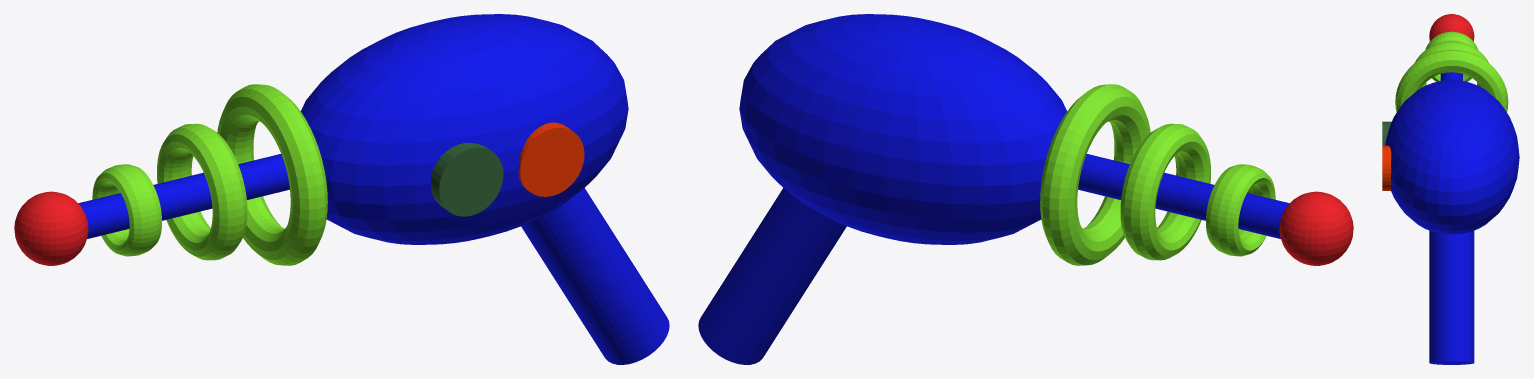
Rendered from gun.fbx.
The picture shows the model from 3 angles, left to right: view 1: azimuth 30°, elevation 25°; view 2: azimuth 150°, elevation 25°; view 3: azimuth 270°, elevation 25°; orthographic projection. The views are drawn at different scales.
Visible parts, largest first — view 1: Sphere.001, Cylinder.001, Torus, Torus.002, Cylinder, Sphere, Cylinder.003, Torus.001, Cylinder.002; view 2: Sphere.001, Cylinder.001, Torus, Torus.002, Cylinder, Sphere, Torus.001; view 3: Sphere.001, Cylinder.001, Torus, Sphere, Torus.002, Torus.001, Cylinder.002, Cylinder, Cylinder.003.
Part boxes in pixels (x1=…): Sphere.001: x1=300, y1=14, x2=628, y2=244; Cylinder.001: x1=521, y1=188, x2=669, y2=364; Torus: x1=217, y1=84, x2=327, y2=265; Torus.002: x1=157, y1=123, x2=247, y2=260; Cylinder: x1=78, y1=154, x2=289, y2=238; Sphere: x1=14, y1=191, x2=88, y2=265; Cylinder.003: x1=431, y1=142, x2=503, y2=216; Torus.001: x1=92, y1=164, x2=161, y2=256; Cylinder.002: x1=518, y1=122, x2=584, y2=196; Sphere.001: x1=739, y1=14, x2=1067, y2=244; Cylinder.001: x1=698, y1=188, x2=846, y2=364; Torus: x1=1040, y1=84, x2=1150, y2=265; Torus.002: x1=1120, y1=123, x2=1210, y2=260; Cylinder: x1=1078, y1=154, x2=1289, y2=238; Sphere: x1=1279, y1=191, x2=1353, y2=265; Torus.001: x1=1206, y1=164, x2=1275, y2=256; Sphere.001: x1=1385, y1=79, x2=1519, y2=234; Cylinder.001: x1=1429, y1=230, x2=1474, y2=364; Torus: x1=1395, y1=49, x2=1508, y2=111; Sphere: x1=1429, y1=14, x2=1474, y2=41; Torus.002: x1=1415, y1=41, x2=1488, y2=87; Torus.001: x1=1425, y1=31, x2=1477, y2=81; Cylinder.002: x1=1382, y1=145, x2=1391, y2=190; Cylinder: x1=1440, y1=72, x2=1462, y2=80; Cylinder.003: x1=1382, y1=121, x2=1391, y2=145.
Size of the model in its own units: 200 by 110 by 60.73.
